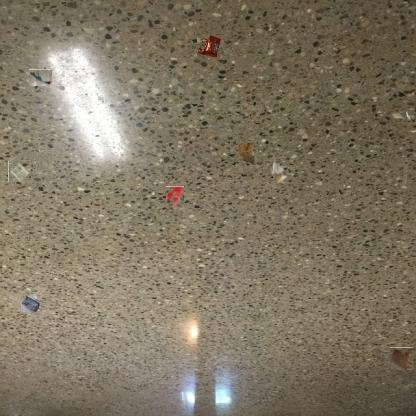dirty: (198, 34, 226, 60), (236, 140, 258, 166), (22, 292, 44, 316), (269, 157, 289, 183), (8, 160, 31, 182), (30, 67, 51, 88), (391, 108, 415, 122)
liquid: (389, 347, 413, 370), (166, 186, 184, 207)
